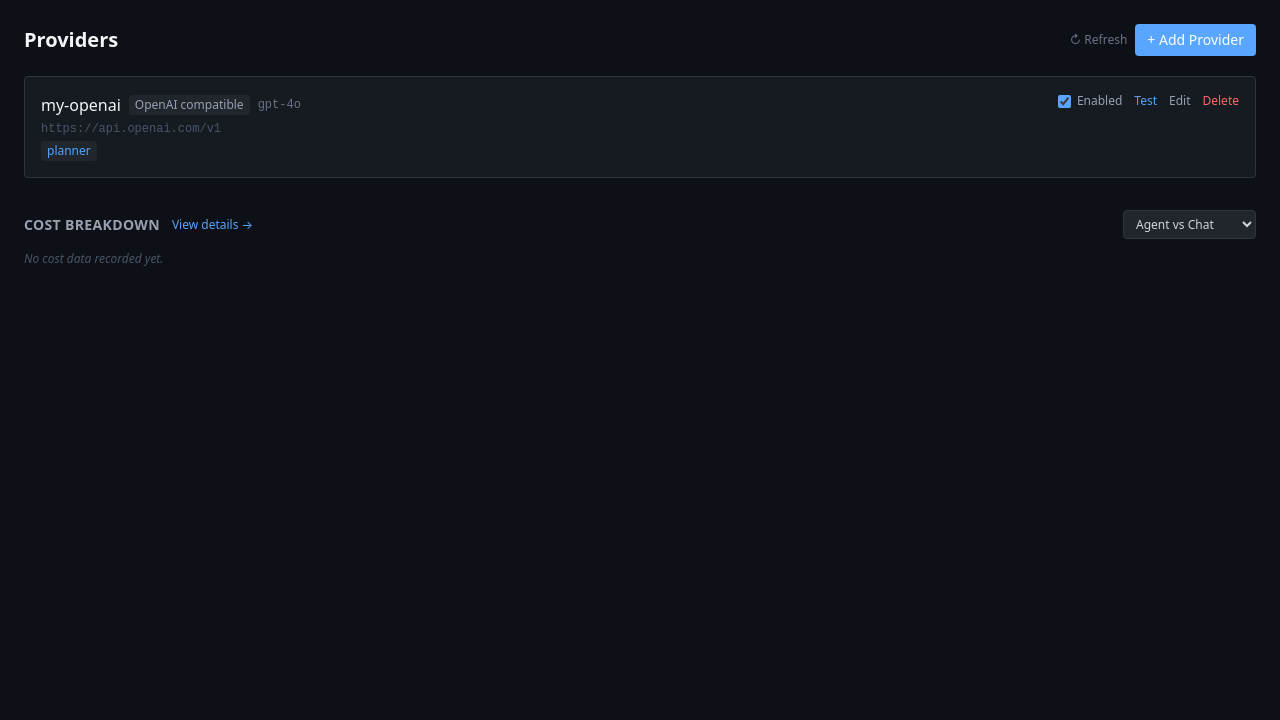
Providers — roles multi-select › shows error message when listRoles rejects
Click the button "+ Add Provider".
click(1196, 40)  # box [1135,24,1256,56]
(page scrolled)
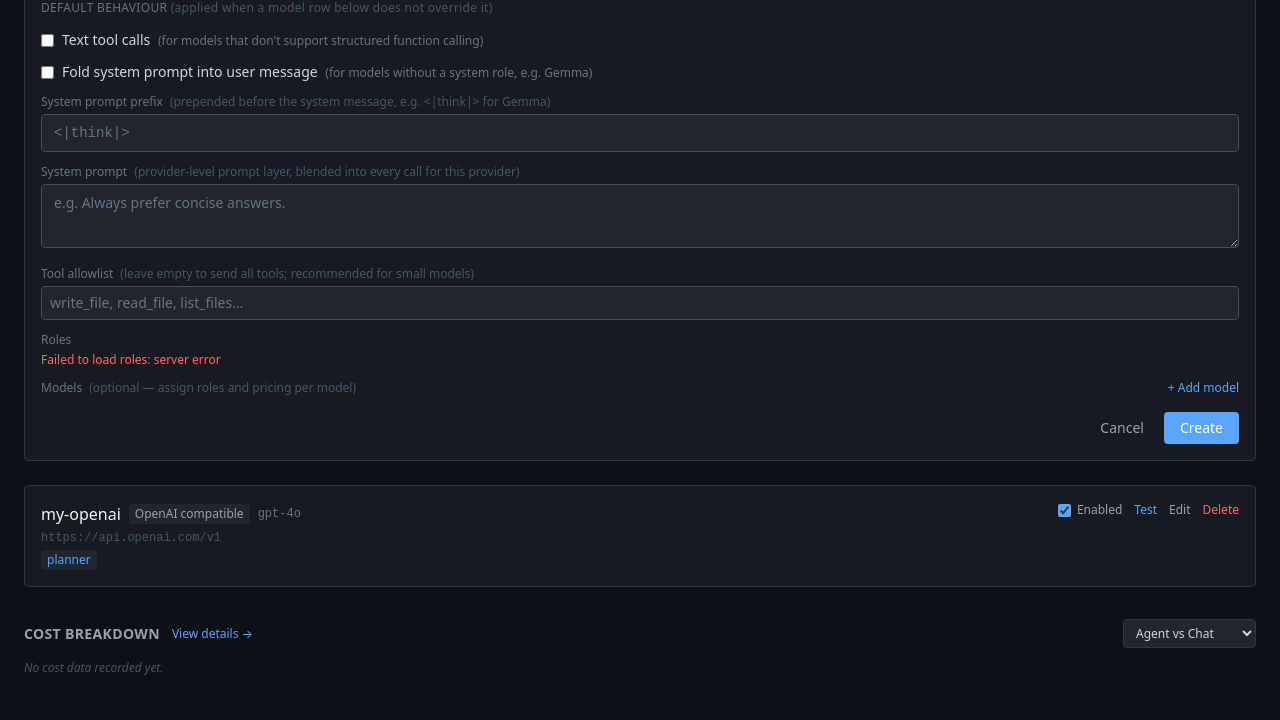
Result: the text "Failed to load roles: server error" is shown at [41,351,221,368]
